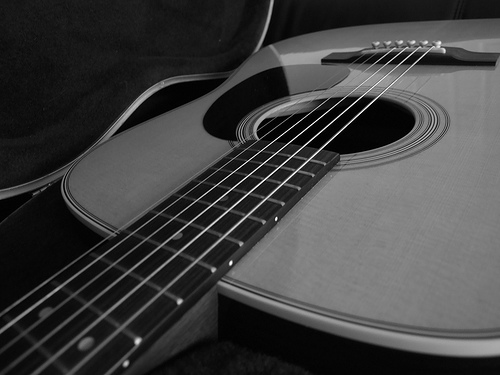guitar: (1, 15, 500, 375)
